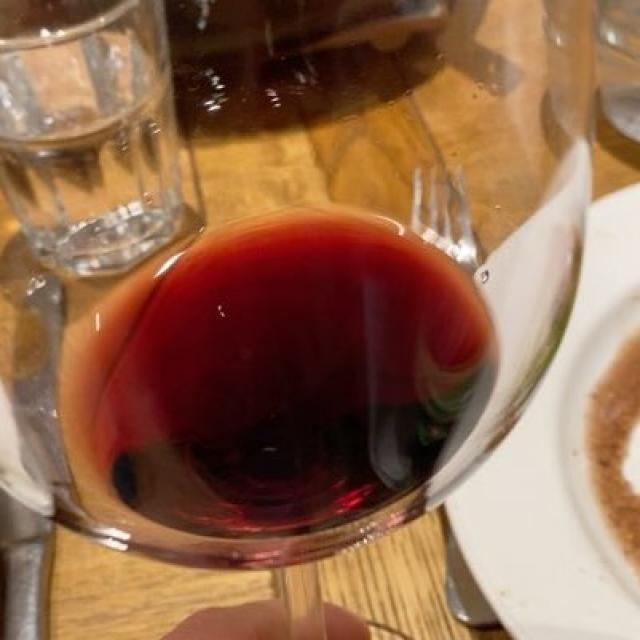wine: (62, 203, 493, 578)
